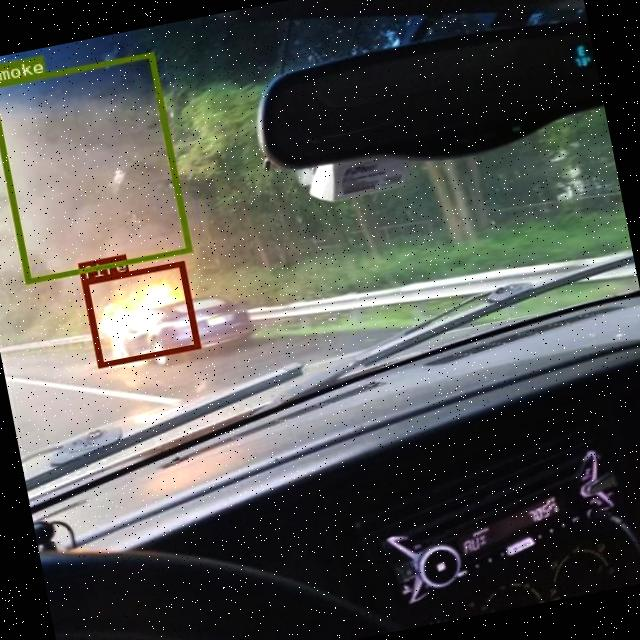fire: (80, 260, 200, 366)
smoke: (0, 51, 191, 283)
